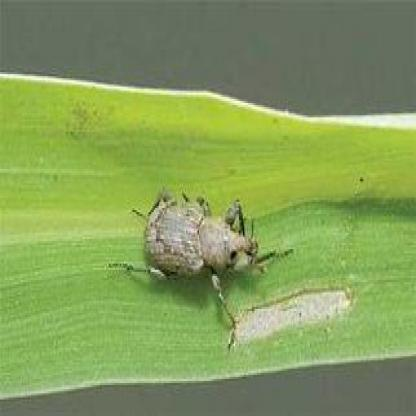rice-bug: (129, 187, 262, 316)
